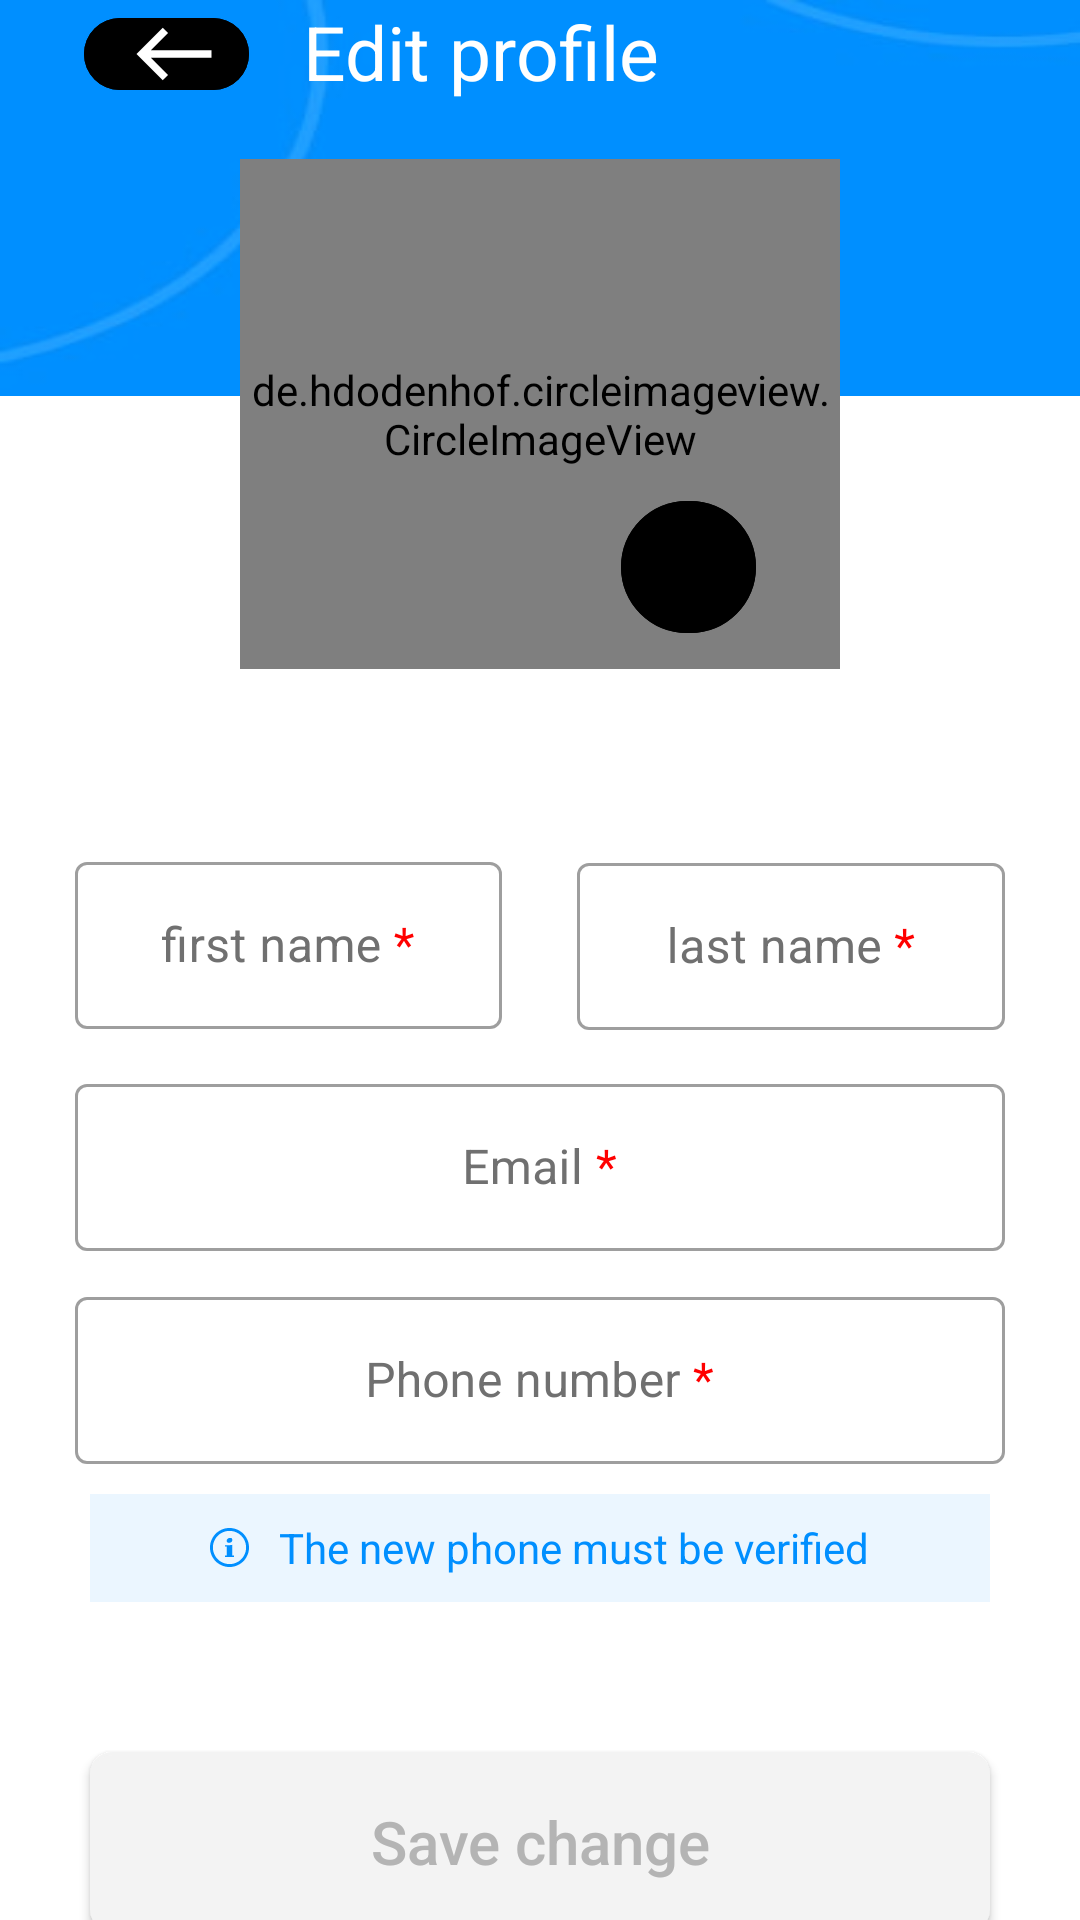

Icon bounding boxes for this 1080*1920 phone screenshot, format (x1, y1, x2, y2):
back: (84, 18, 249, 90)
